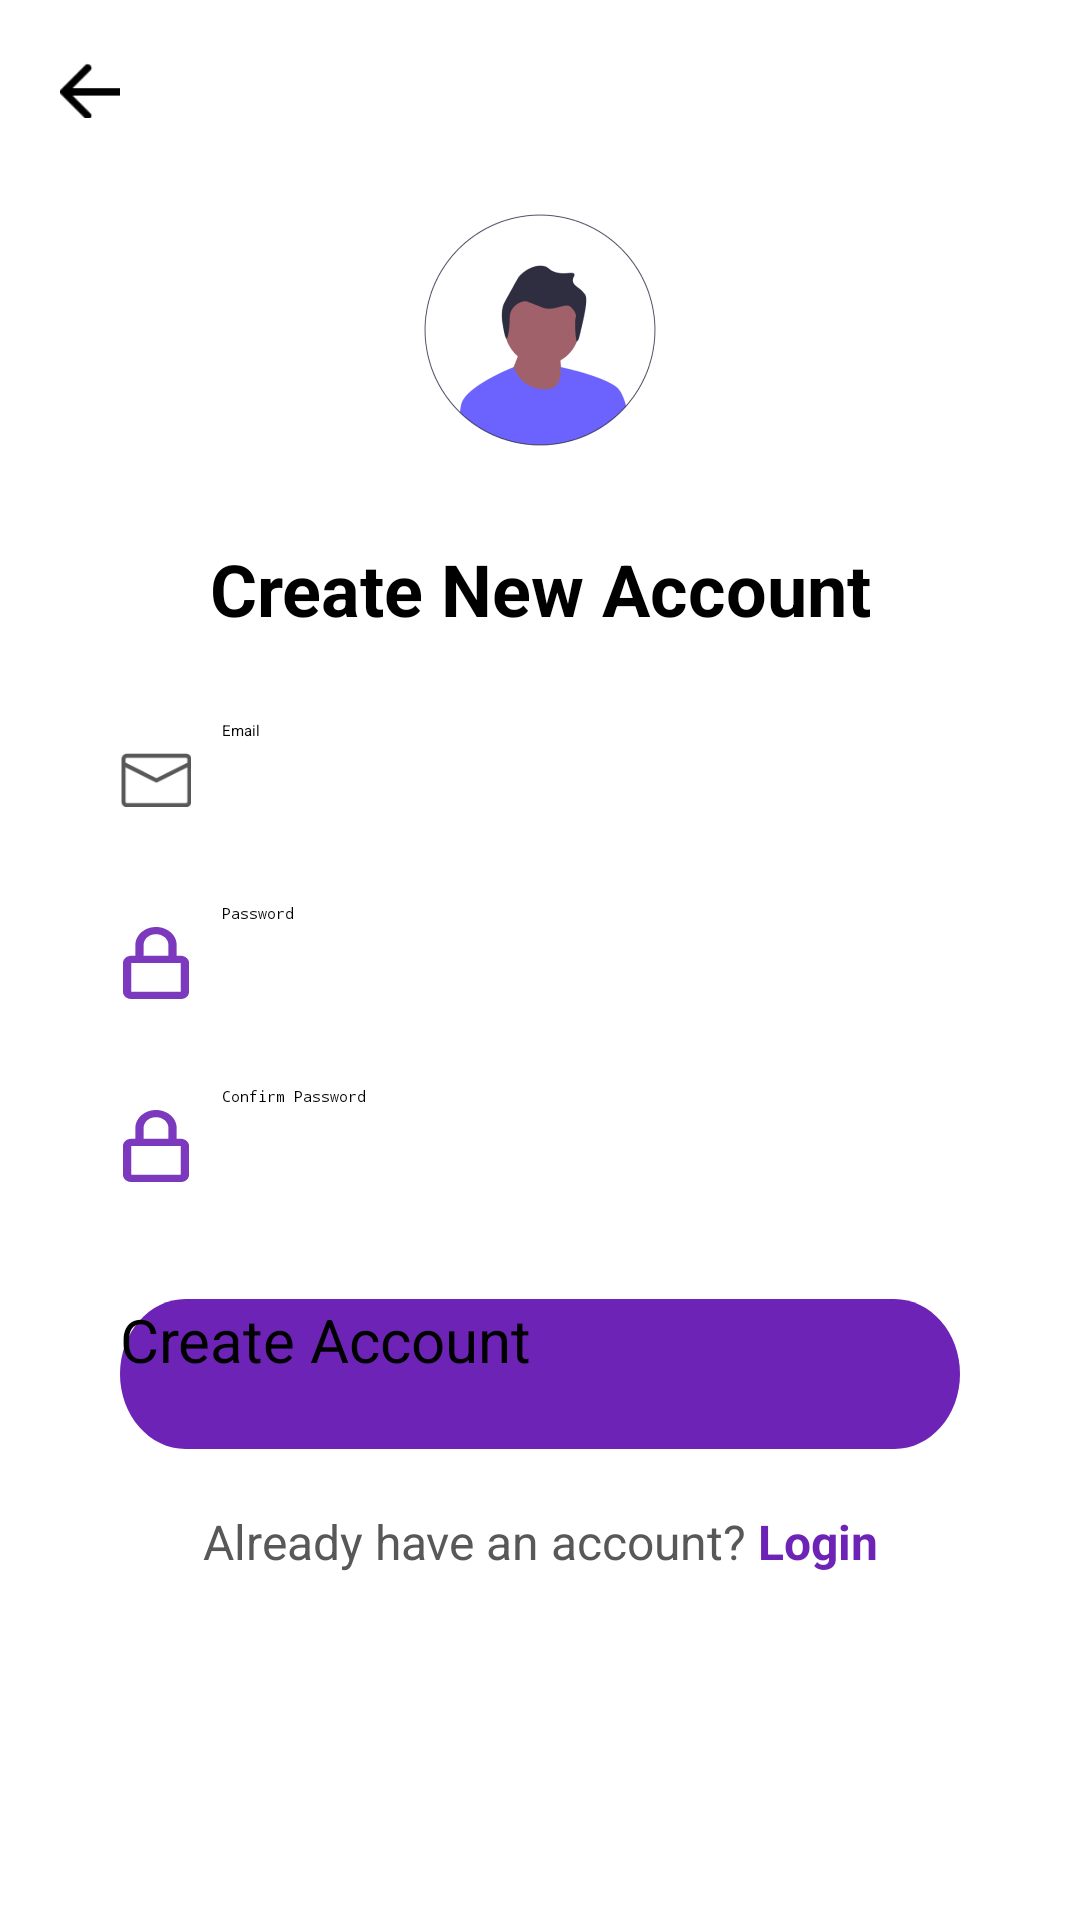

Icon bounding boxes for this 1080w x 1920h phone screenshot, format {"left": x1, "top": y1, "right": x2, "bottom": y2}:
back arrow: {"left": 60, "top": 64, "right": 120, "bottom": 118}
lock: {"left": 123, "top": 927, "right": 189, "bottom": 999}, {"left": 123, "top": 1110, "right": 189, "bottom": 1182}
person: {"left": 424, "top": 214, "right": 656, "bottom": 446}
